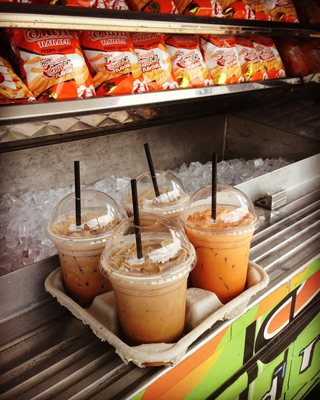pizza: (183, 182, 259, 300)
